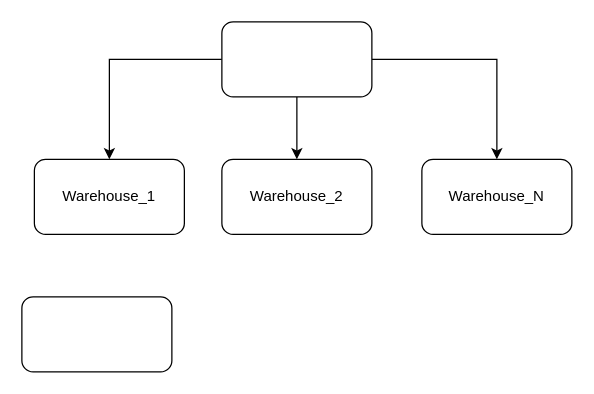
The diagram is 594 pixels wide and 394 high, and some of its shapes have lost their labels. Here are the shapes that lost their labels. From the top down, the box of each, then its label:
(221, 21, 372, 97): Gestore Warehouse
(21, 296, 172, 372): Package
